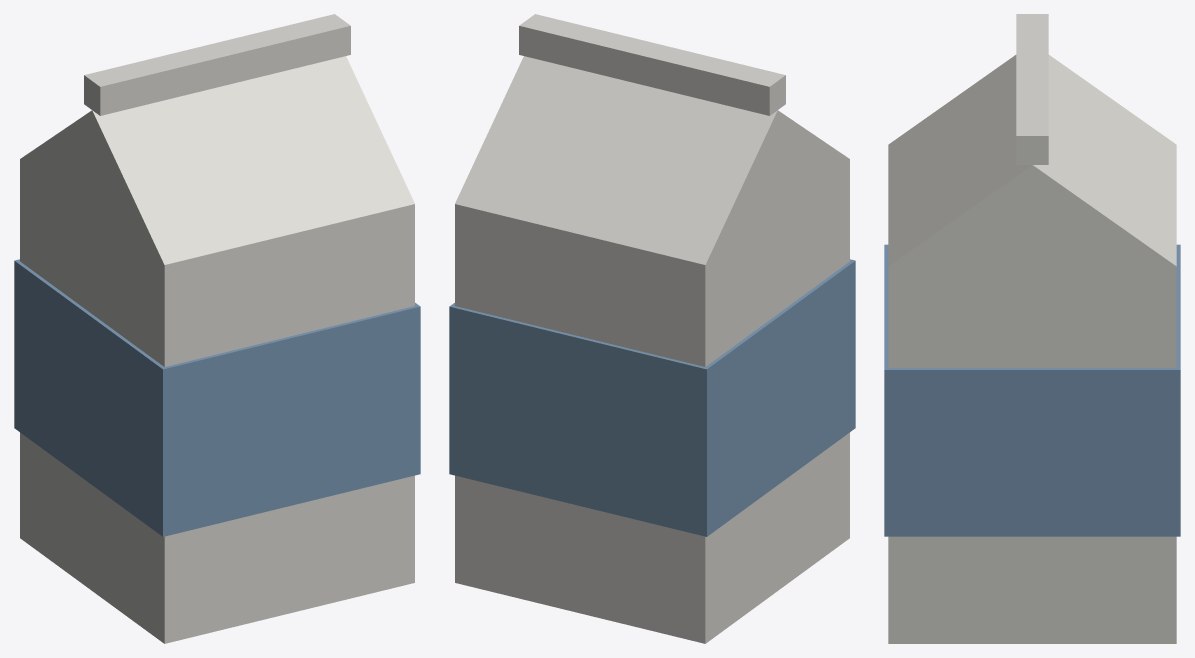
The model's file is longlife.glb.
The picture shows the model from 3 angles, left to right: view 1: azimuth 30°, elevation 25°; view 2: azimuth 150°, elevation 25°; view 3: azimuth 270°, elevation 25°; orthographic projection.
Visible parts, largest first — view 1: NC_longlife; view 2: NC_longlife; view 3: NC_longlife.
Part boxes in pixels (x1,y1,x2,y2): NC_longlife: [14, 14, 420, 643]; NC_longlife: [449, 14, 855, 643]; NC_longlife: [884, 14, 1180, 643].
Bounding box in the file's own units: 0.074 × 0.14 × 0.074.
